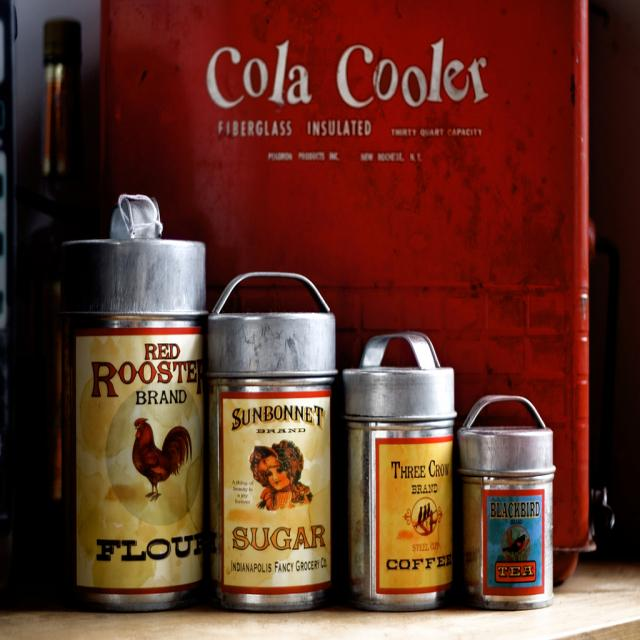Chicken: (135, 416, 190, 503)
